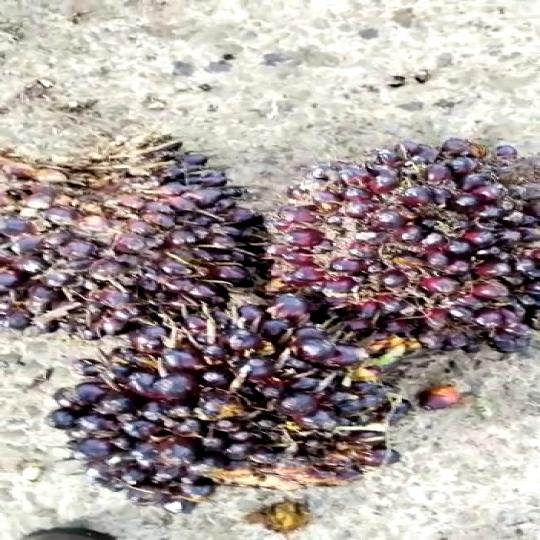kurang masak: (48, 284, 406, 537), (240, 138, 540, 364), (0, 130, 256, 329)
